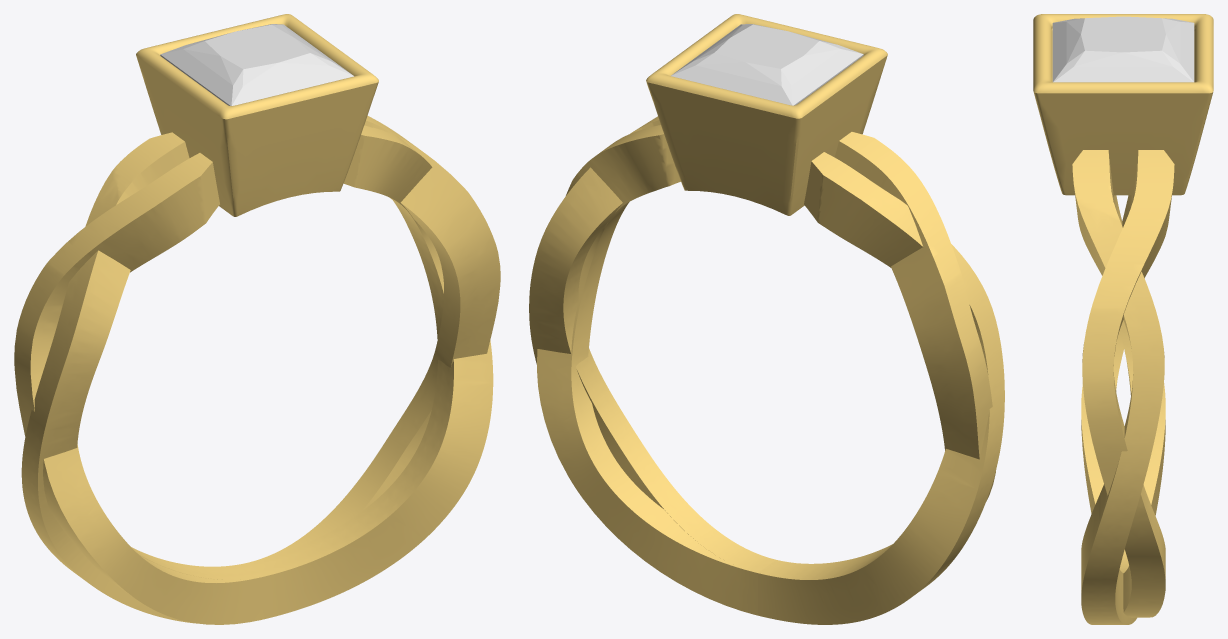
File: diamond-princess-yellowgold-bezelset-twist-nosidestones.glb
The picture shows the model from 3 angles, left to right: view 1: azimuth 30°, elevation 25°; view 2: azimuth 150°, elevation 25°; view 3: azimuth 270°, elevation 25°; orthographic projection.
Parts seen in each view (by area): view 1: metal.002, stone; view 2: metal.002, stone; view 3: metal.002, stone.
Boxes of the visible parts, left/top/right/bottom form: metal.002: left=14, top=14, right=500, bottom=624; stone: left=160, top=24, right=353, bottom=105; metal.002: left=529, top=14, right=1004, bottom=624; stone: left=671, top=24, right=863, bottom=105; metal.002: left=1033, top=14, right=1213, bottom=624; stone: left=1052, top=16, right=1194, bottom=82.
Size of the model in its own units: 19.97 by 23.76 by 6.89.
